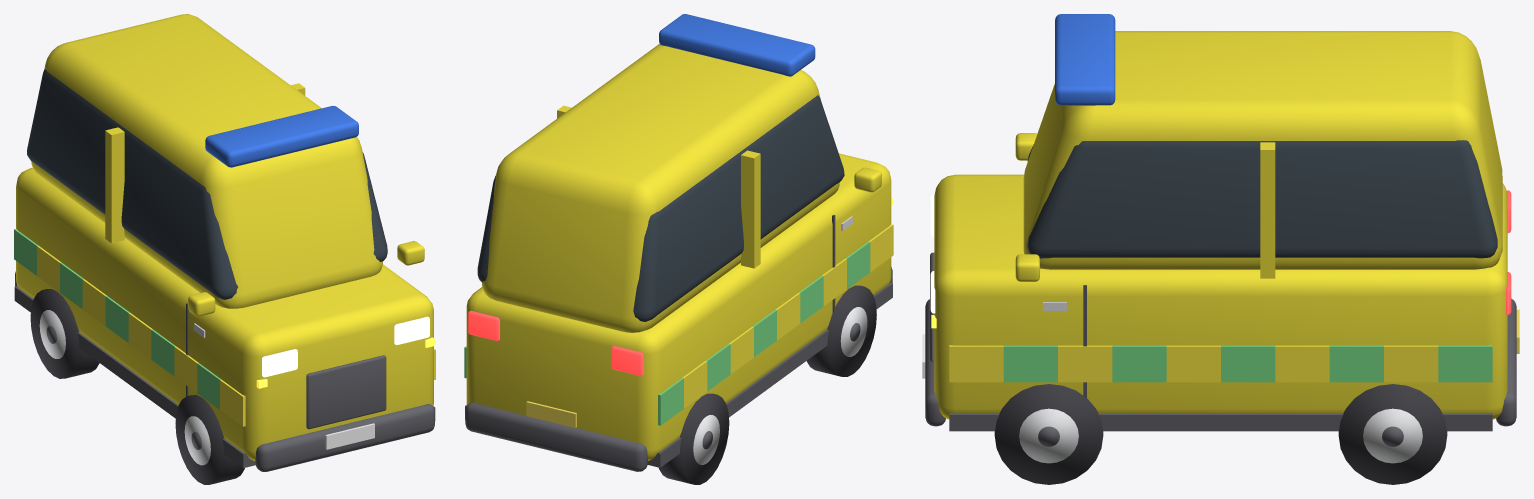
File: ambulance.glb
The picture shows the model from 3 angles, left to right: view 1: azimuth 30°, elevation 25°; view 2: azimuth 150°, elevation 25°; view 3: azimuth 270°, elevation 25°; orthographic projection. The views are drawn at different scales.
Visible parts, largest first — view 1: ambulance; view 2: ambulance; view 3: ambulance.
Boxes of the visible parts, left/top/right/bottom form: ambulance: left=14, top=14, right=435, bottom=484; ambulance: left=464, top=14, right=893, bottom=484; ambulance: left=922, top=14, right=1519, bottom=484.
Size of the model in its own units: 1.04 by 1.38 by 1.98.
